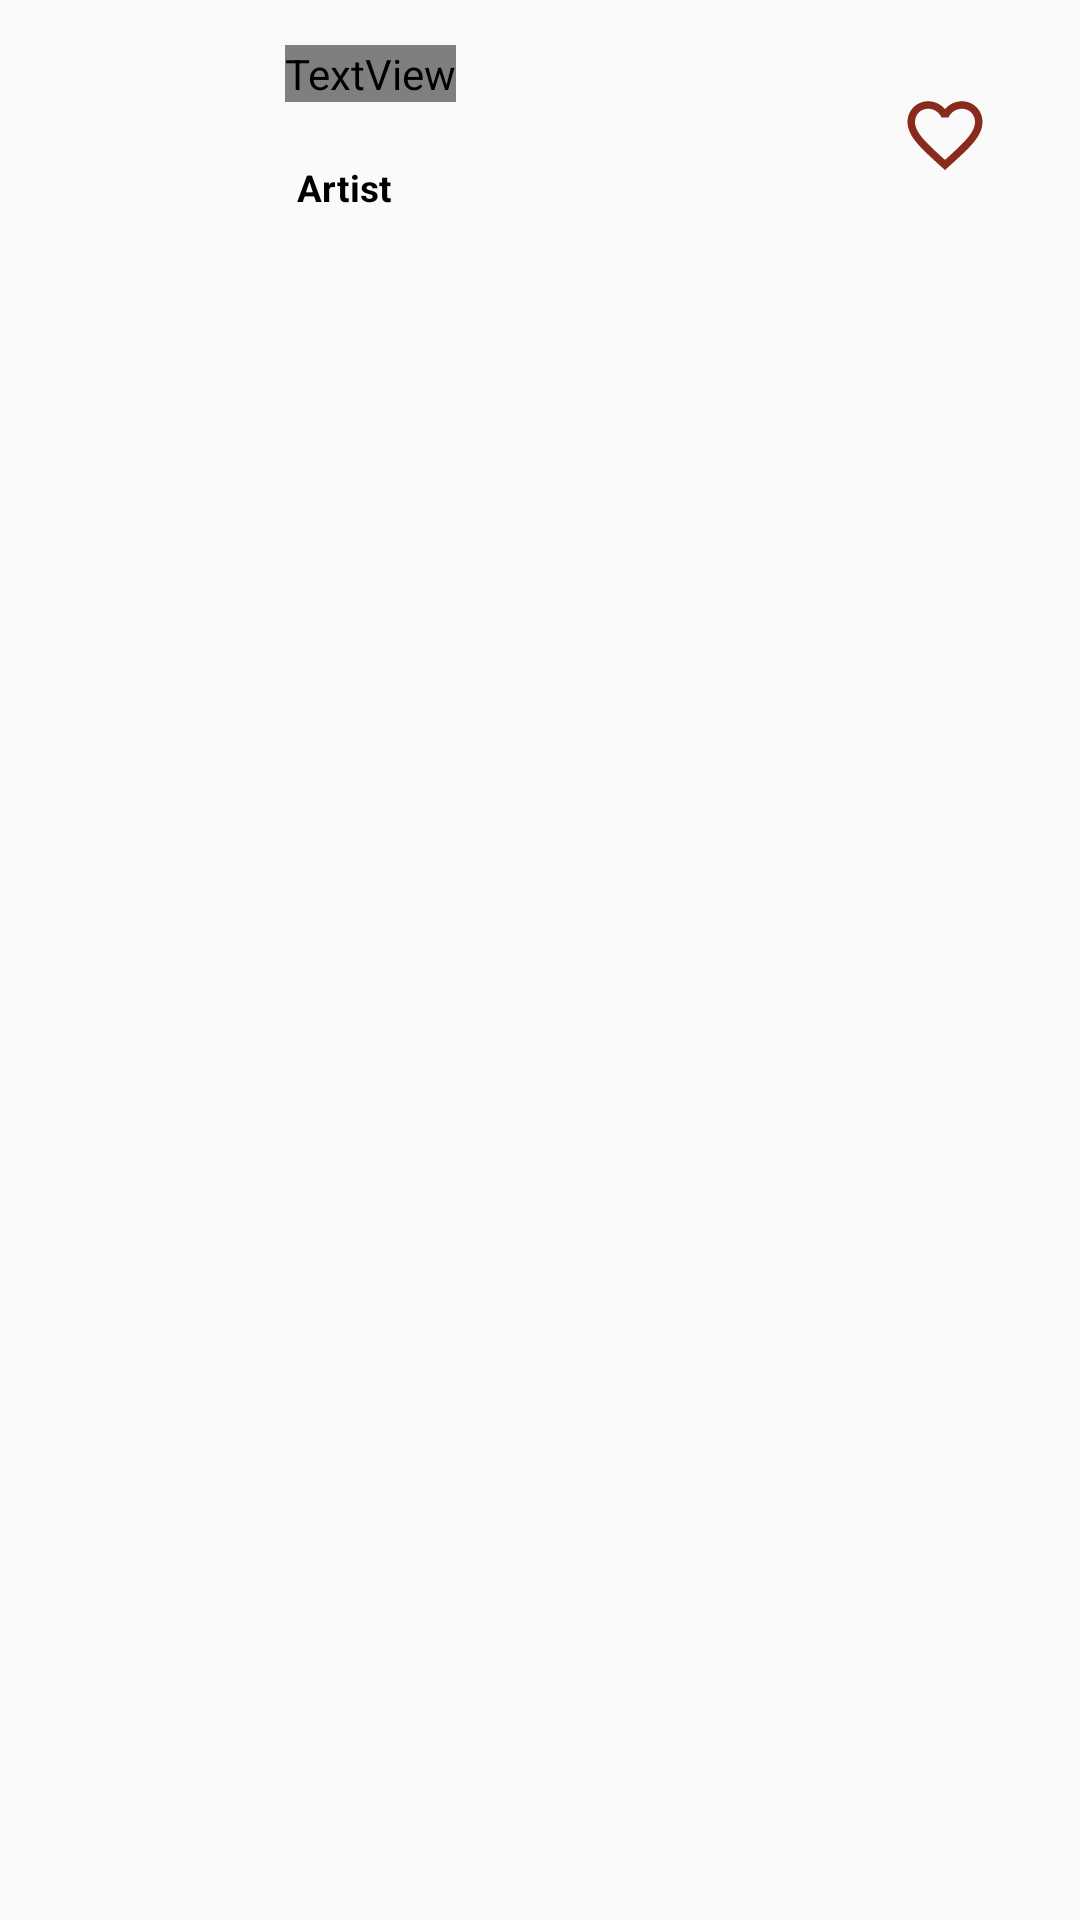

Locate icon controls on the screen. Image size 1080w x 1920h, boxes as (x1, y1, x2, y2).
favorite border: (907, 101, 983, 170)
